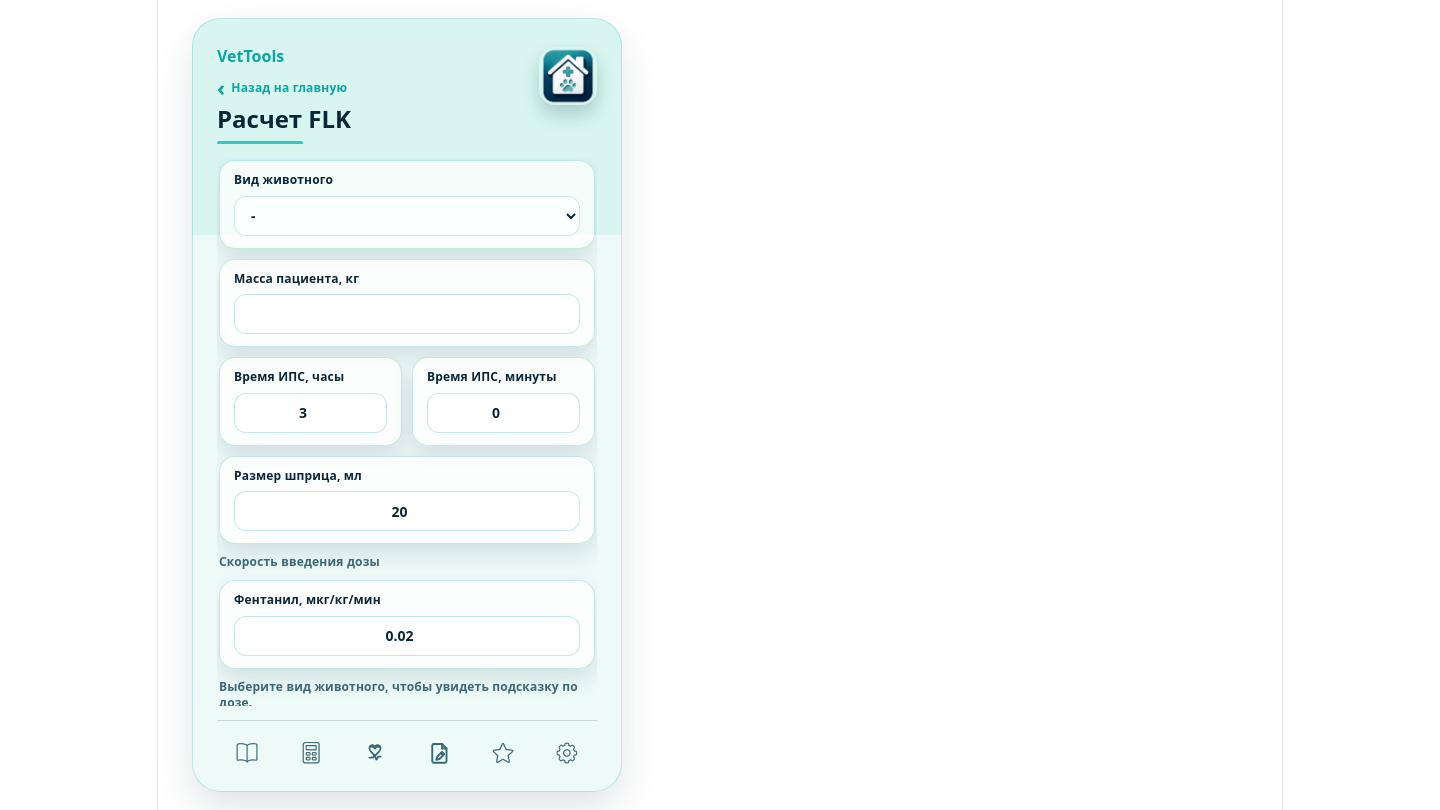
Test case: FlkPage › shows dose hints for the selected species
The image size is (1440, 810).
Select "Собака" in the dropdown labelled "Вид животного": [407, 216] box [234,196,580,236]
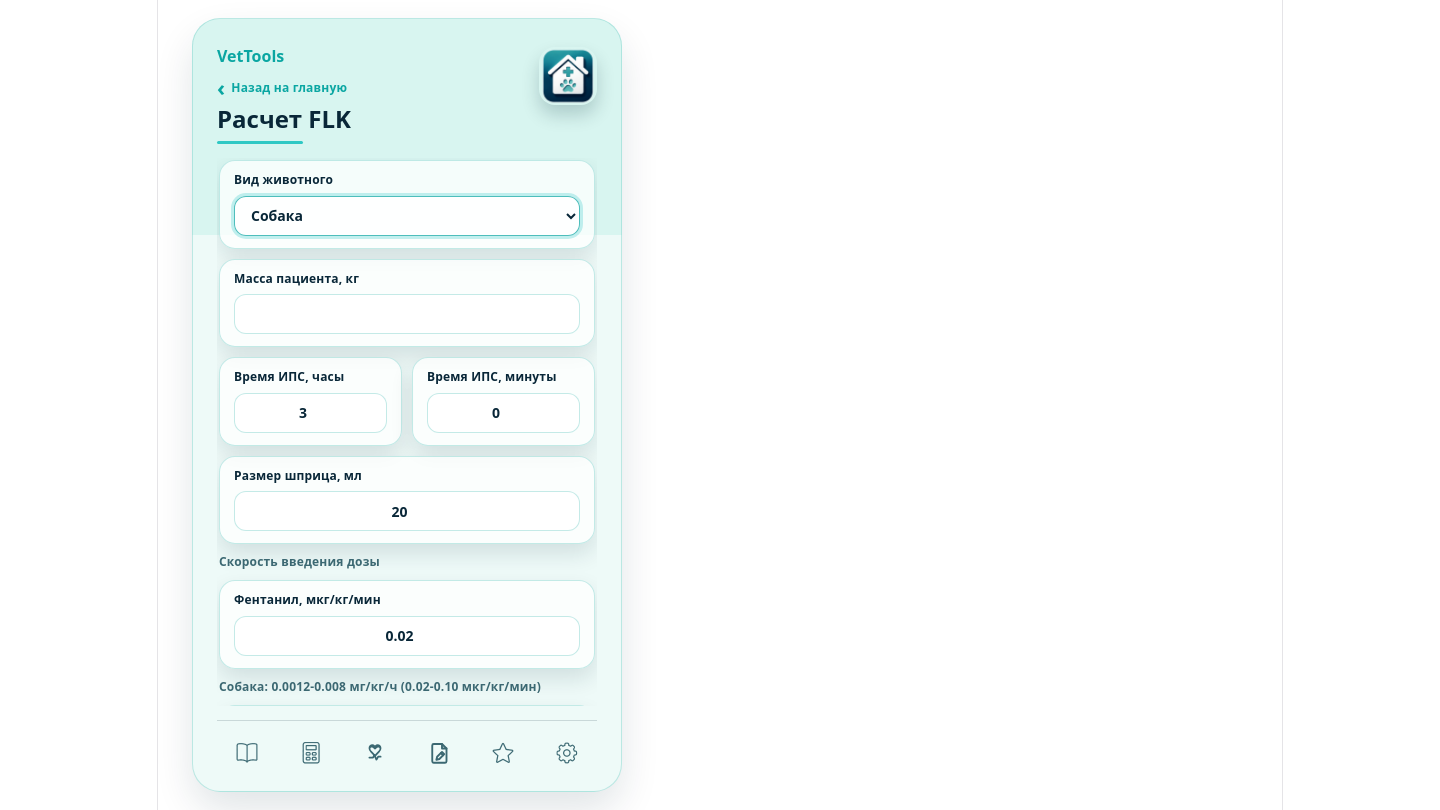
Select "Кошка" in the dropdown labelled "Вид животного": [407, 216] box [234,196,580,236]
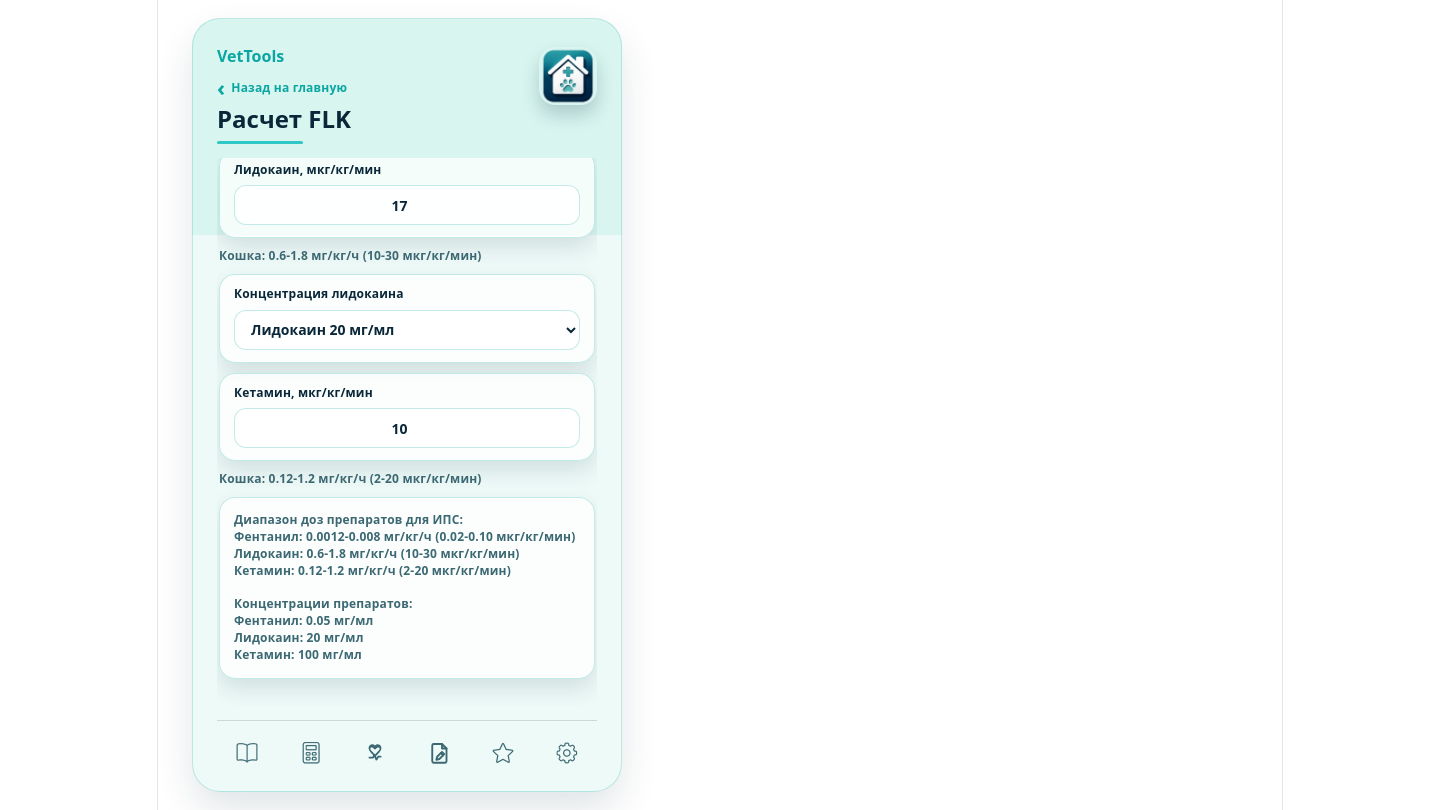
Check: the text "Кошка: 0.6-1.8 мг/кг/ч (10-30 мкг/кг/мин)" is shown, box [219,247,482,264]
Check: the text "Лидокаин: 0.6-1.8 мг/кг/ч (10-30 мкг/кг/мин)" is shown, box [234,511,575,663]
